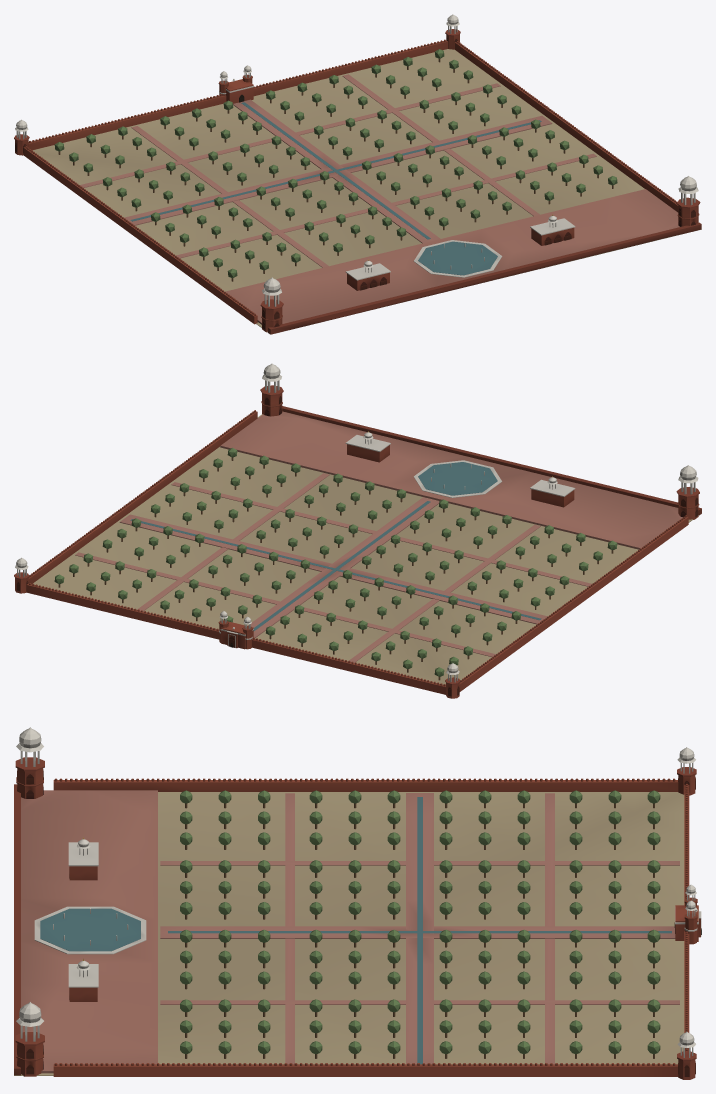
Rendered from mehtab-bagh.glb.
3 views of the same model, one above another, from view 1: azimuth 30°, elevation 25°; view 2: azimuth 150°, elevation 25°; view 3: azimuth 270°, elevation 25° (orthographic). The views are drawn at different scales.
Parts seen in each view (by area): view 1: p0_walls, p1_garden, p2_pool; view 2: p0_walls, p1_garden, p2_pool; view 3: p0_walls, p1_garden, p2_pool.
Part boxes in pixels (x1=…): p0_walls: x1=14, y1=14, x2=701, y2=334; p1_garden: x1=54, y1=49, x2=617, y2=281; p2_pool: x1=345, y1=214, x2=575, y2=290; p0_walls: x1=14, y1=363, x2=701, y2=698; p1_garden: x1=54, y1=448, x2=617, y2=680; p2_pool: x1=345, y1=431, x2=575, y2=507; p0_walls: x1=14, y1=727, x2=701, y2=1079; p1_garden: x1=160, y1=790, x2=679, y2=1064; p2_pool: x1=34, y1=837, x2=146, y2=1001.
Size of the model in its own units: 298 by 33.15 by 296.
